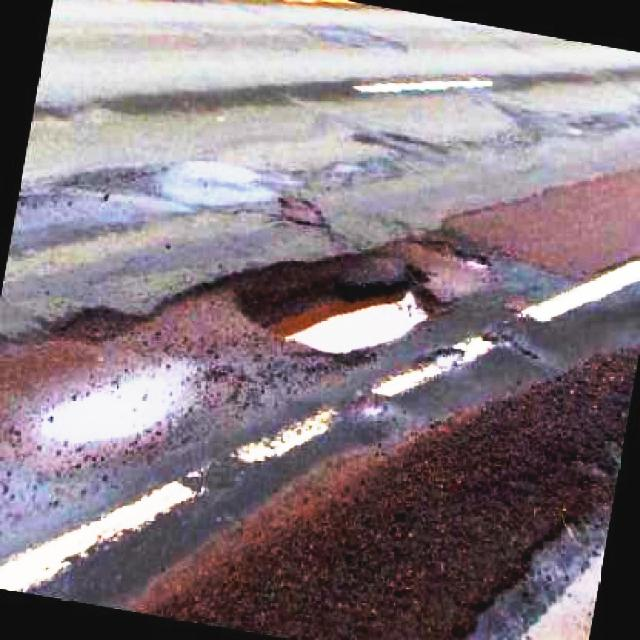pothole: (228, 257, 448, 361)
